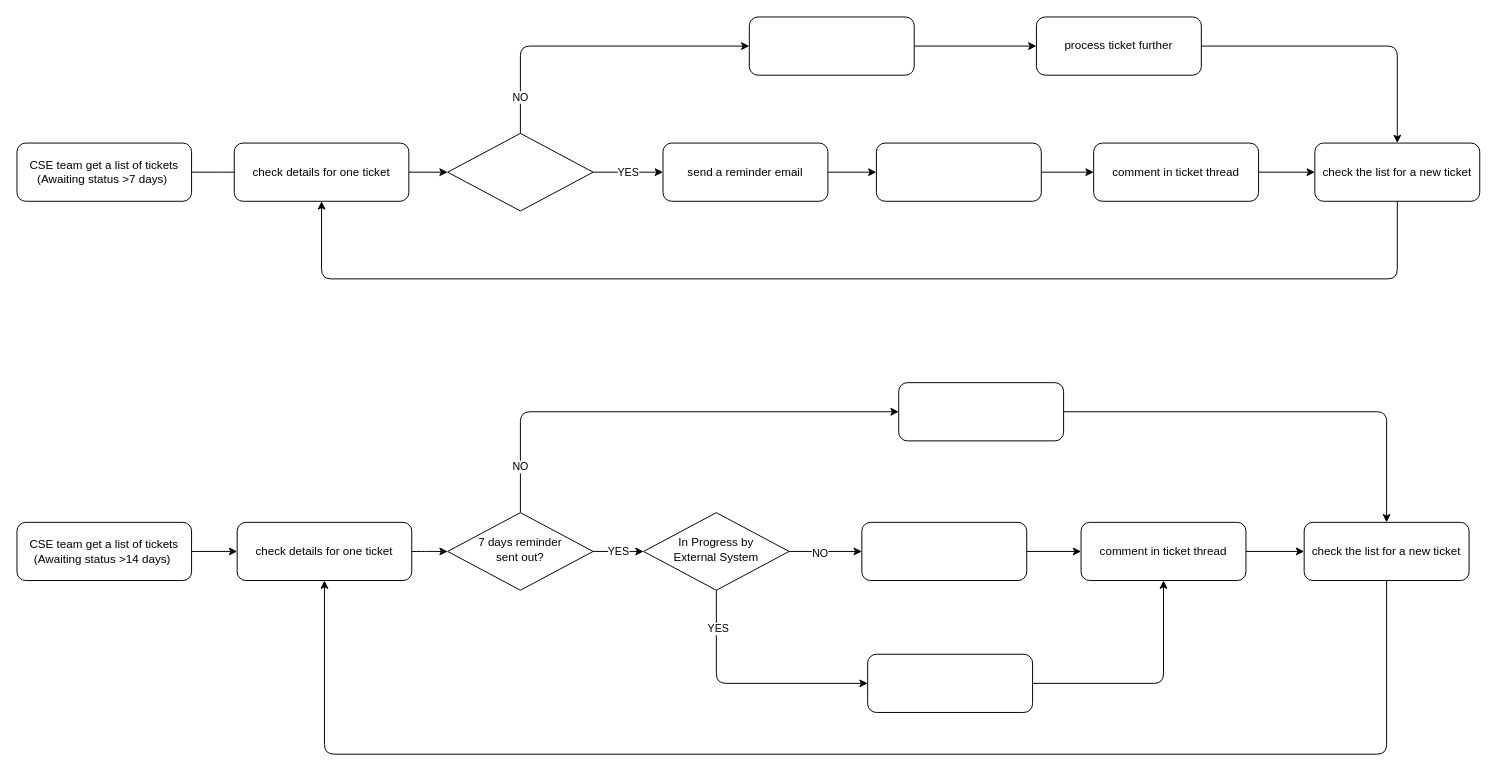
This 1497x779 diagram has some shape labels left out. Each missing label, with the box of its shape:
change ticket status to 'In Progress': (748, 16, 914, 75)
follow up with 7 days reminder workflow: (898, 382, 1064, 441)
pending customer action: (447, 132, 593, 211)
request SNOW team to close it from backend (e.g. INC4088083 ): (867, 653, 1033, 712)
resolve the ticket with 14 days SOP: (861, 521, 1027, 581)
tag the ticket with '7 days reminder': (875, 142, 1041, 201)
